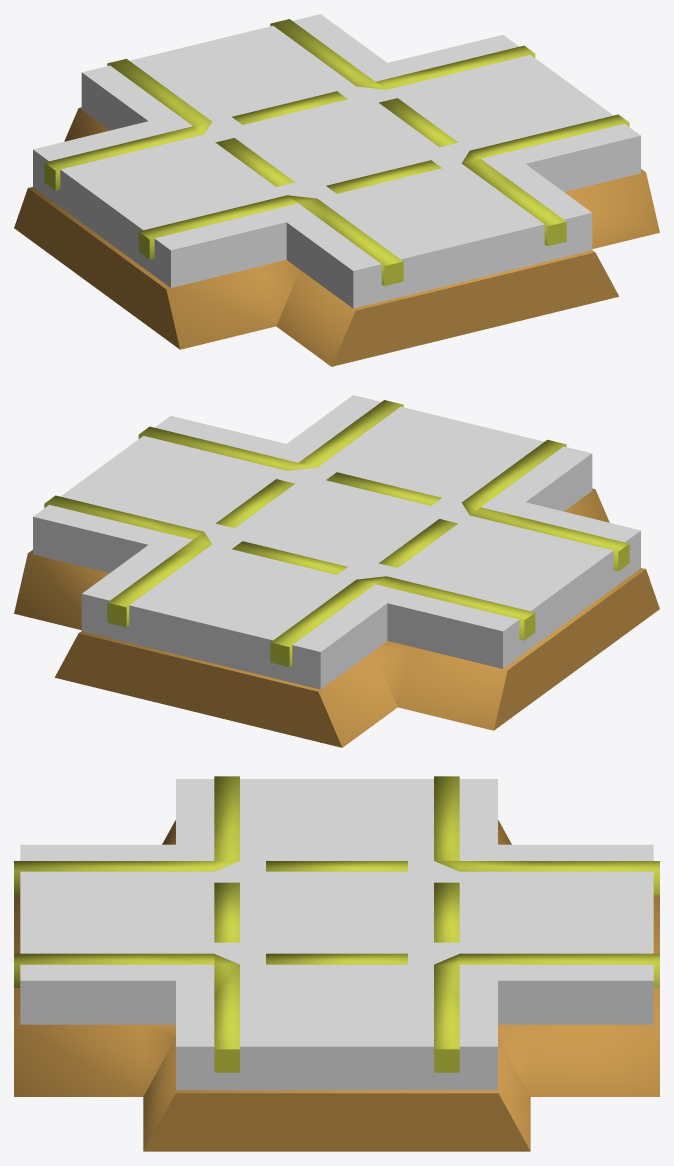
File: cross.fbx
3 renders of one model, top to bottom at view 1: azimuth 30°, elevation 25°; view 2: azimuth 150°, elevation 25°; view 3: azimuth 270°, elevation 25°, orthographic. The views are drawn at different scales.
Visible parts, largest first — view 1: boundingBox, rails; view 2: boundingBox, rails; view 3: boundingBox, rails.
Part boxes in pixels (left/top/right/bottom): boundingBox: left=33, top=14, right=640, bottom=308; rails: left=14, top=19, right=659, bottom=366; boundingBox: left=33, top=395, right=640, bottom=689; rails: left=14, top=400, right=659, bottom=747; boundingBox: left=20, top=779, right=653, bottom=1090; rails: left=14, top=776, right=659, bottom=1151.
Size of the model in its own units: 200 by 200 by 35.
